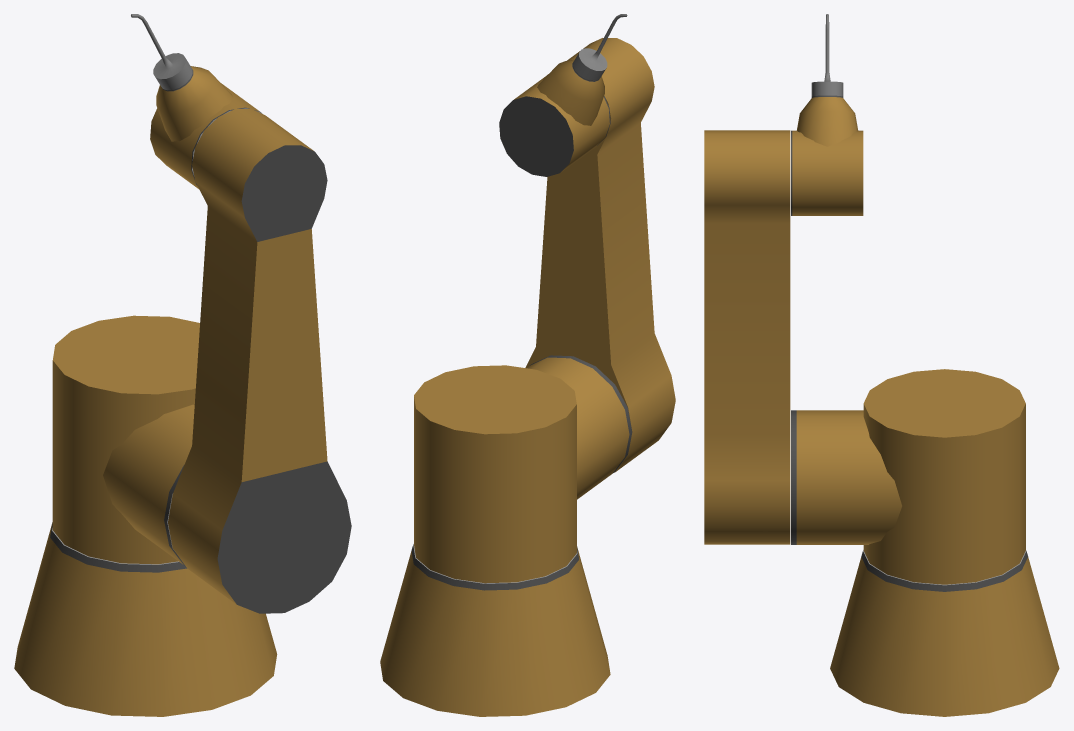
Rendered from repair_arm.fbx.
The picture shows the model from 3 angles, left to right: view 1: azimuth 30°, elevation 25°; view 2: azimuth 150°, elevation 25°; view 3: azimuth 270°, elevation 25°; orthographic projection. The views are drawn at different scales.
Visible parts, largest first — view 1: pCube2, pCylinder3, pCylinder4, pCylinder5, pCylinder6, pCylinder7; view 2: pCylinder4, pCube2, pCylinder3, pCylinder5, pCylinder7, pCylinder6; view 3: pCube2, pCylinder4, pCylinder3, pCylinder5, pCylinder7, pCylinder6.
Part boxes in pixels (x1,y1,x2,y2): pCube2: [168, 109, 351, 613]; pCylinder3: [14, 522, 277, 716]; pCylinder4: [52, 315, 199, 564]; pCylinder5: [103, 404, 194, 566]; pCylinder6: [131, 14, 233, 141]; pCylinder7: [150, 83, 262, 189]; pCylinder4: [414, 365, 576, 583]; pCube2: [525, 38, 675, 472]; pCylinder3: [380, 544, 610, 716]; pCylinder5: [526, 355, 632, 499]; pCylinder7: [499, 75, 610, 176]; pCylinder6: [537, 14, 627, 125]; pCube2: [704, 130, 790, 544]; pCylinder4: [863, 369, 1025, 584]; pCylinder3: [830, 550, 1059, 716]; pCylinder5: [791, 410, 901, 544]; pCylinder7: [791, 130, 863, 215]; pCylinder6: [797, 14, 858, 146].
Bounding box in the file's own units: 105 × 312 × 162.
